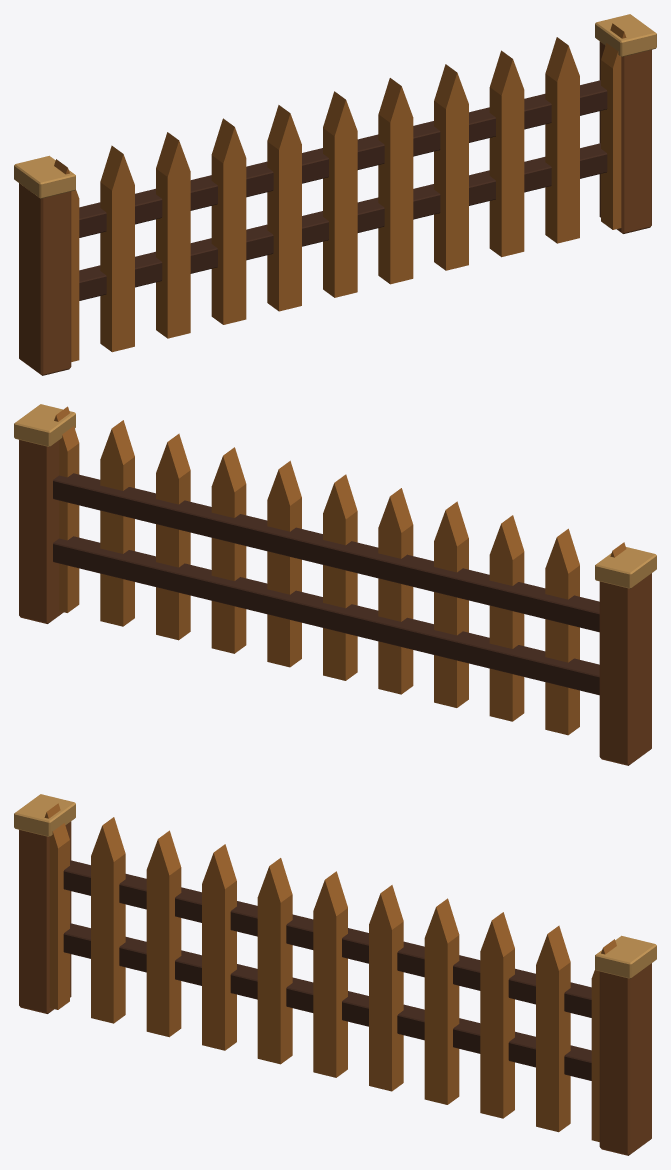
3 renders of one model, top to bottom at view 1: azimuth 30°, elevation 25°; view 2: azimuth 150°, elevation 25°; view 3: azimuth 330°, elevation 25°, orthographic.
Parts seen in each view (by area): view 1: WK_TownHardscape_TH02_LOD2; view 2: WK_TownHardscape_TH02_LOD2; view 3: WK_TownHardscape_TH02_LOD2.
Part boxes in pixels (x1,y1,x2,y2): WK_TownHardscape_TH02_LOD2: [14, 14, 656, 375]; WK_TownHardscape_TH02_LOD2: [14, 404, 656, 765]; WK_TownHardscape_TH02_LOD2: [14, 794, 656, 1155].
Bounding box in the file's own units: 4 × 1.25 × 0.3.
